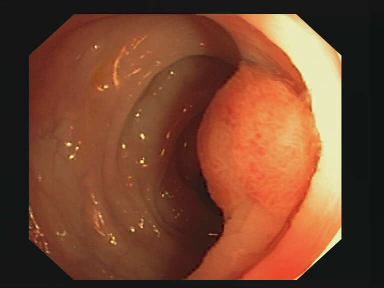polyp: (192, 48, 331, 215)
